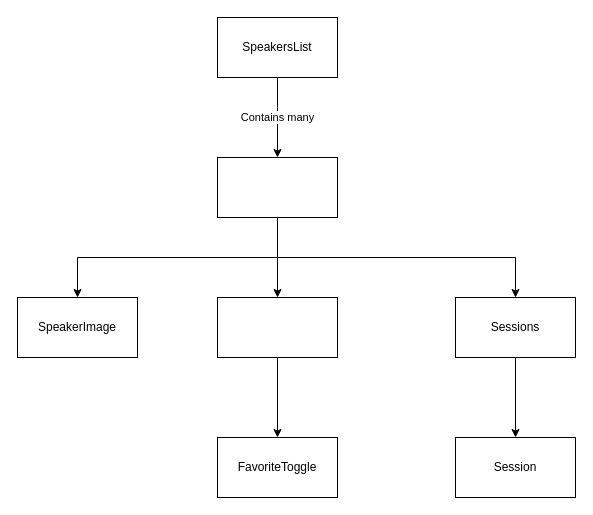
Some shapes in this 593 by 515 pixel diagram are drawn without their labels. Each missing label, with the centre of its shape:
"SpeakerCard" belongs at (x=277, y=187).
"SpeakerInfo" belongs at (x=277, y=327).
